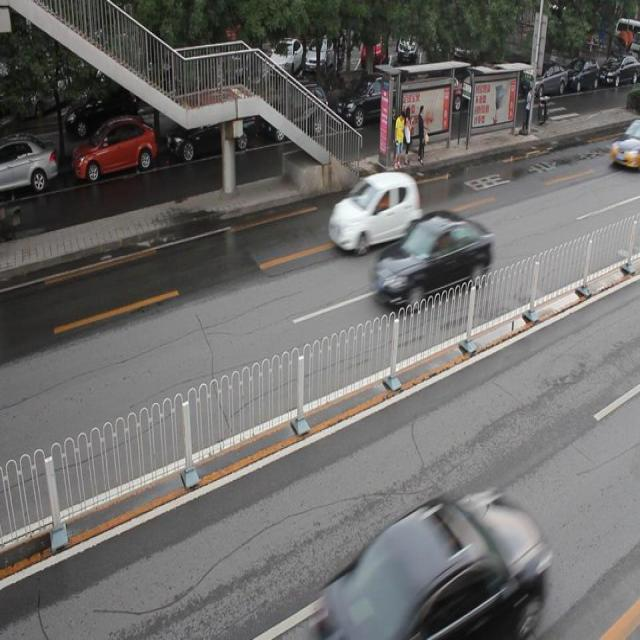car: (315, 490, 555, 640), (374, 214, 495, 311), (328, 172, 421, 251), (167, 88, 255, 155), (74, 119, 158, 184), (263, 82, 330, 142), (336, 72, 405, 129), (1, 136, 58, 196), (610, 117, 640, 171)
